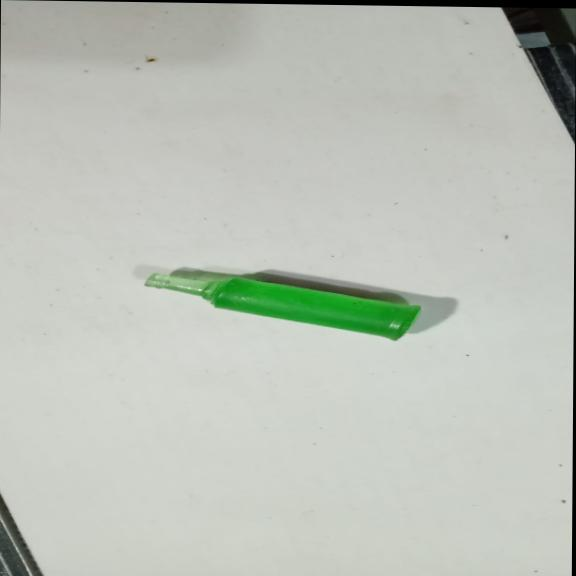Plastik: (138, 273, 418, 343)
